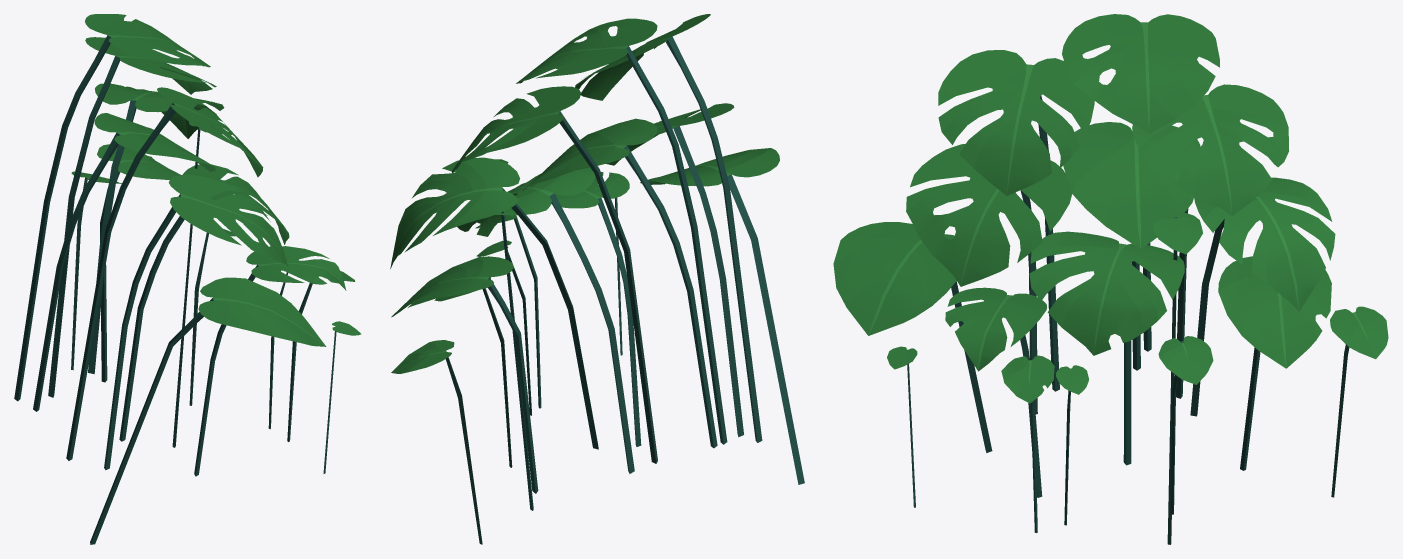
Rendered from plant_monstera_A.fbx.
3 renders of one model, left to right at view 1: azimuth 30°, elevation 25°; view 2: azimuth 150°, elevation 25°; view 3: azimuth 270°, elevation 25°, orthographic. The views are drawn at different scales.
Parts seen in each view (by area): view 1: plant_monstera_leaf_A_05, plant_monstera_leaf_A_07, plant_monstera_leaf_A_08, plant_monstera_leaf_A_03, plant_monstera_leaf_A_04, plant_monstera_leaf_A_02, plant_monstera_leaf_A_10, plant_monstera_leaf_A_06, plant_monstera_leaf_A_09, plant_monstera_leaf_A_11, plant_monstera_leaf_A_01, plant_monstera_leaf_A_12 (+3 smaller); view 2: plant_monstera_leaf_A_06, plant_monstera_leaf_A_08, plant_monstera_leaf_A_02, plant_monstera_leaf_A_04, plant_monstera_leaf_A_03, plant_monstera_leaf_A_07, plant_monstera_leaf_A_09, plant_monstera_leaf_A_11, plant_monstera_leaf_A_05, plant_monstera_leaf_A_10, plant_monstera_leaf_A_12, plant_monstera_leaf_A_01 (+3 smaller); view 3: plant_monstera_leaf_A_03, plant_monstera_leaf_A_08, plant_monstera_leaf_A_09, plant_monstera_leaf_A_05, plant_monstera_leaf_A_02, plant_monstera_leaf_A_07, plant_monstera_leaf_A_04, plant_monstera_leaf_A_06, plant_monstera_leaf_A_11, plant_monstera_leaf_A_10, plant_monstera_leaf_A_12, plant_monstera_leaf_A_13 (+4 smaller).
Boxes of the visible parts, x1,y1,x2,y2 form: plant_monstera_leaf_A_05: (104,174,288,470); plant_monstera_leaf_A_07: (90,277,326,544); plant_monstera_leaf_A_08: (14,14,210,401); plant_monstera_leaf_A_03: (66,87,263,460); plant_monstera_leaf_A_04: (33,113,215,411); plant_monstera_leaf_A_02: (48,37,216,397); plant_monstera_leaf_A_10: (194,246,346,476); plant_monstera_leaf_A_06: (88,83,224,374); plant_monstera_leaf_A_09: (119,164,289,441); plant_monstera_leaf_A_11: (97,144,181,382); plant_monstera_leaf_A_01: (172,122,231,447); plant_monstera_leaf_A_12: (71,171,121,370); plant_monstera_leaf_A_06: (390,157,598,449); plant_monstera_leaf_A_08: (516,18,727,444); plant_monstera_leaf_A_02: (451,86,657,463); plant_monstera_leaf_A_04: (522,118,717,448); plant_monstera_leaf_A_03: (575,14,762,442); plant_monstera_leaf_A_07: (640,148,804,484); plant_monstera_leaf_A_09: (457,167,634,473); plant_monstera_leaf_A_11: (391,256,538,493); plant_monstera_leaf_A_05: (606,103,743,437); plant_monstera_leaf_A_10: (551,172,641,446); plant_monstera_leaf_A_12: (391,340,482,544); plant_monstera_leaf_A_01: (496,159,533,510); plant_monstera_leaf_A_03: (938,50,1094,391); plant_monstera_leaf_A_08: (1062,14,1219,351); plant_monstera_leaf_A_09: (1029,231,1184,465); plant_monstera_leaf_A_05: (906,143,1071,414); plant_monstera_leaf_A_02: (1132,84,1288,398); plant_monstera_leaf_A_07: (833,222,992,452); plant_monstera_leaf_A_04: (1063,122,1200,370); plant_monstera_leaf_A_06: (1190,177,1335,416); plant_monstera_leaf_A_11: (1218,256,1331,470); plant_monstera_leaf_A_10: (945,287,1046,497); plant_monstera_leaf_A_12: (1330,306,1388,497); plant_monstera_leaf_A_13: (1158,336,1213,514).
Size of the model in its own units: 220 by 325 by 337.
